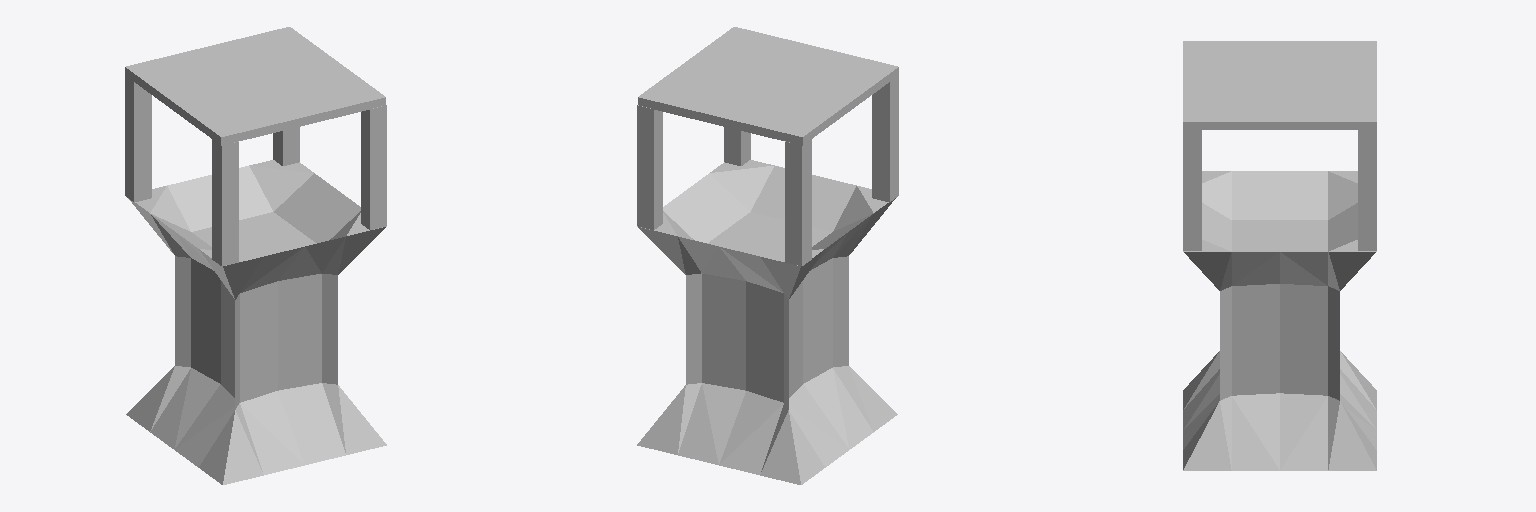
Rendered from lamp2.obj.
The picture shows the model from 3 angles: view 1: azimuth 30°, elevation 25°; view 2: azimuth 150°, elevation 25°; view 3: azimuth 270°, elevation 25°; orthographic projection.
Visible parts, largest first — view 1: Box003; view 2: Box003; view 3: Box003.
Part boxes in pixels (x1,y1,x2,y2): Box003: (125,27,386,484); Box003: (637,27,898,484); Box003: (1183,41,1376,470).
Bounding box in the file's own units: 3.98 × 7.99 × 4.03.